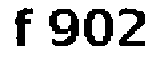0: (83, 6, 114, 51)
2: (116, 5, 148, 49)
9: (43, 6, 81, 50)
f: (10, 1, 38, 51)
